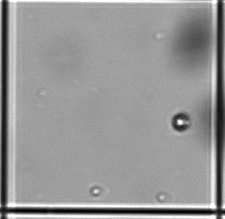Living Cell: (171, 111, 189, 131)
